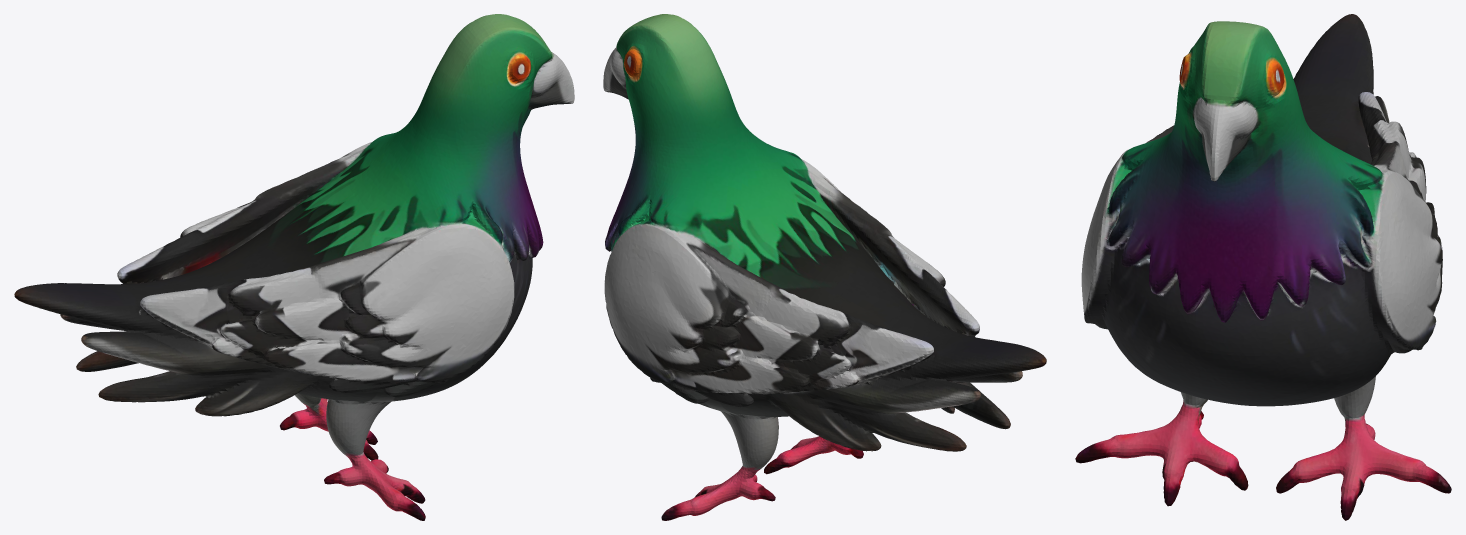
File: BIRD.glb
3 renders of one model, left to right at view 1: azimuth 30°, elevation 25°; view 2: azimuth 150°, elevation 25°; view 3: azimuth 270°, elevation 25°, orthographic. The views are drawn at different scales.
Visible parts, largest first — view 1: tripo_node_a2a474f8-2c28-4dbb-a2b6-cd232347302d; view 2: tripo_node_a2a474f8-2c28-4dbb-a2b6-cd232347302d; view 3: tripo_node_a2a474f8-2c28-4dbb-a2b6-cd232347302d.
Boxes of the visible parts, left/top/right/bottom form: tripo_node_a2a474f8-2c28-4dbb-a2b6-cd232347302d: left=14, top=14, right=574, bottom=520; tripo_node_a2a474f8-2c28-4dbb-a2b6-cd232347302d: left=603, top=14, right=1046, bottom=520; tripo_node_a2a474f8-2c28-4dbb-a2b6-cd232347302d: left=1075, top=14, right=1451, bottom=520.
Bounding box in the file's own units: 0.9816 × 0.8171 × 0.5151.
Materials: 1 (1 with a texture image).
